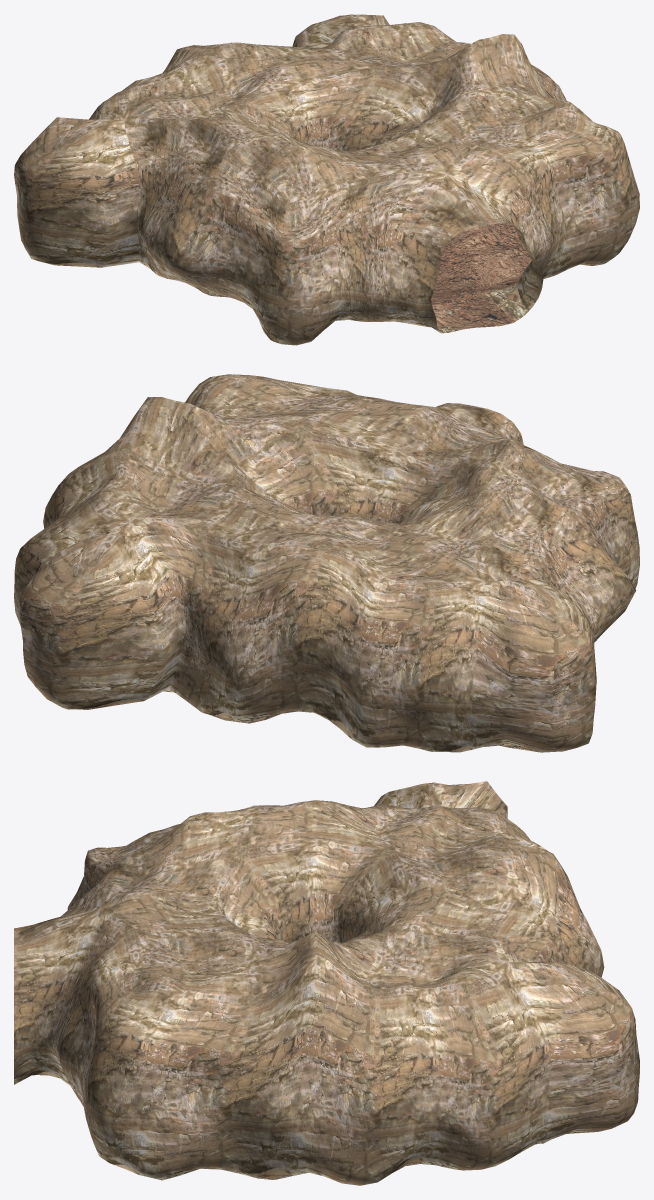
Rendered from thm_tato_cave_s01_r16_roomab_mesh_r16.fbx.
3 renders of one model, top to bottom at view 1: azimuth 30°, elevation 25°; view 2: azimuth 150°, elevation 25°; view 3: azimuth 270°, elevation 25°, orthographic. The views are drawn at different scales.
Visible parts, largest first — view 1: mesh_node; view 2: mesh_node; view 3: mesh_node.
Boxes of the visible parts, left/top/right/bottom form: mesh_node: left=14, top=14, right=639, bottom=345; mesh_node: left=14, top=374, right=639, bottom=752; mesh_node: left=14, top=781, right=639, bottom=1185.
Bounding box in the file's own units: 46.07 × 15.71 × 41.41.
